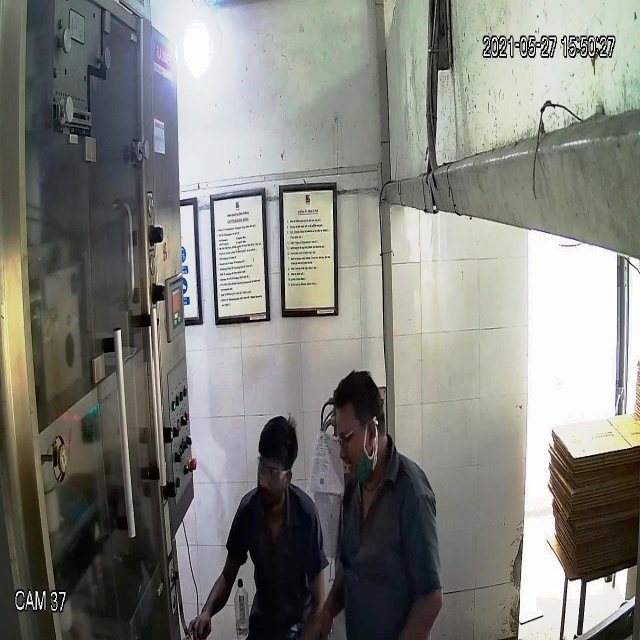Gafas: (254, 452, 293, 487), (335, 420, 370, 448)
